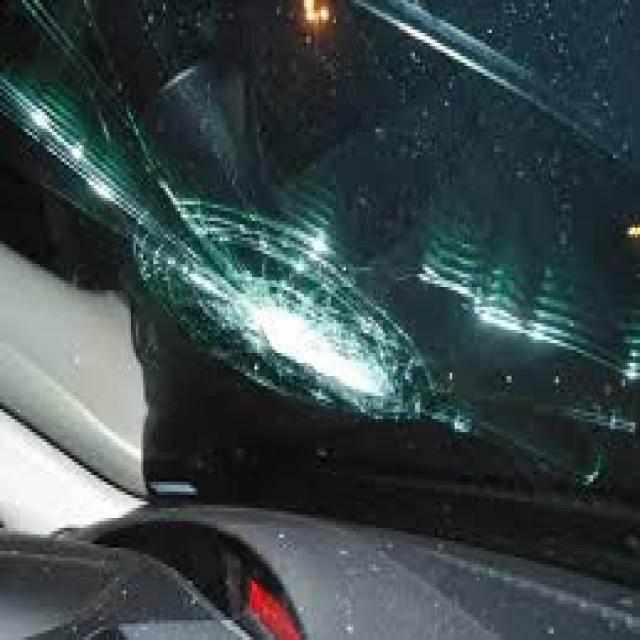damaged-windscreen: (2, 0, 640, 525)
